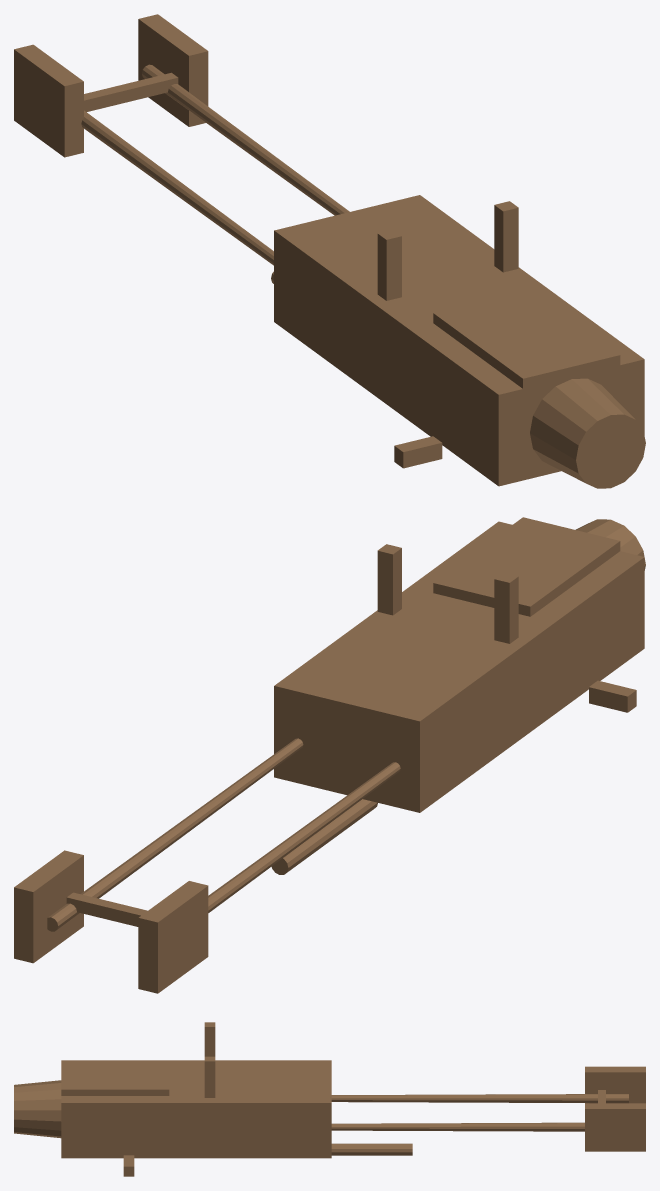
Rendered from speeder_bike_74z.glb.
3 renders of one model, top to bottom at view 1: azimuth 30°, elevation 25°; view 2: azimuth 150°, elevation 25°; view 3: azimuth 270°, elevation 25°, orthographic. The views are drawn at different scales.
Parts seen in each view (by area): view 1: Speeder_Bike_74Z; view 2: Speeder_Bike_74Z; view 3: Speeder_Bike_74Z.
Boxes of the visible parts, x1,y1,x2,y2 form: Speeder_Bike_74Z: [14, 14, 645, 488]; Speeder_Bike_74Z: [14, 517, 645, 993]; Speeder_Bike_74Z: [14, 1022, 645, 1176].
Size of the model in its own units: 1.2 by 0.925 by 4.68.
